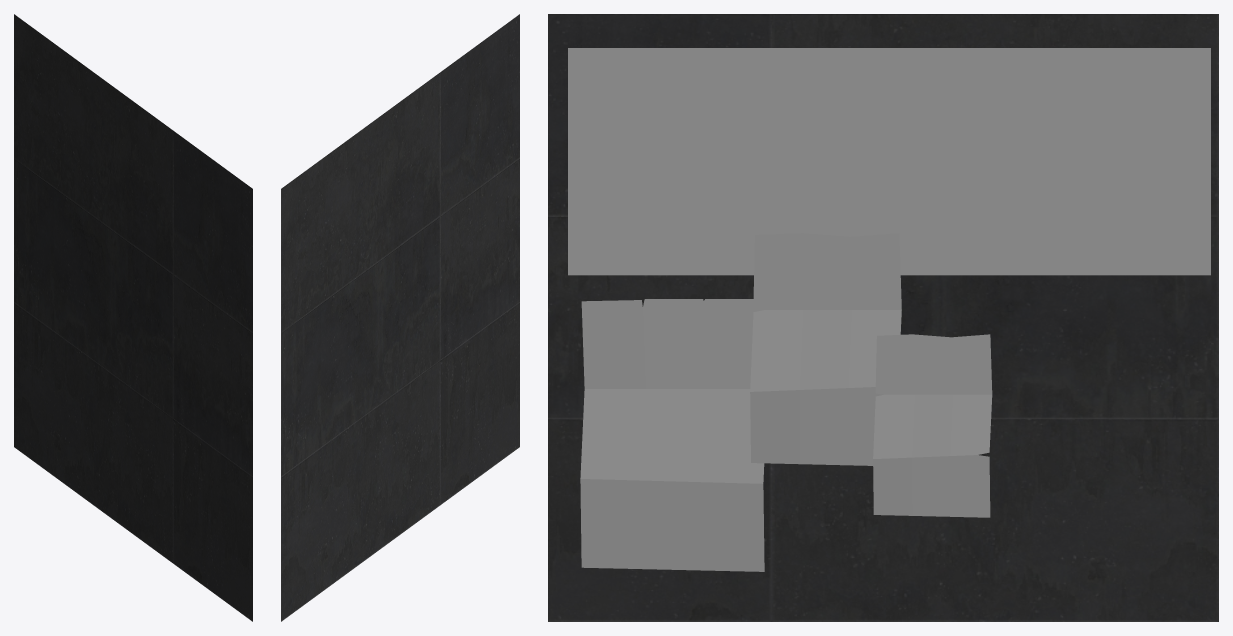
File: Wall_4.fbx
The picture shows the model from 3 angles, left to right: view 1: azimuth 30°, elevation 25°; view 2: azimuth 150°, elevation 25°; view 3: azimuth 270°, elevation 25°; orthographic projection. The views are drawn at different scales.
Visible parts, largest first — view 1: Wall; view 2: Wall; view 3: Wall, Graffito, Vinile, E.T, ThePolice.
Boxes of the visible parts, <box> form: Wall: <box>14,14,252,621</box>; Wall: <box>281,14,519,621</box>; Wall: <box>548,14,1218,621</box>; Graffito: <box>568,48,1210,275</box>; Vinile: <box>580,299,764,571</box>; E.T: <box>750,233,901,465</box>; ThePolice: <box>873,334,992,517</box>.
Size of the model in its own units: 22.02 by 1000 by 1000.
